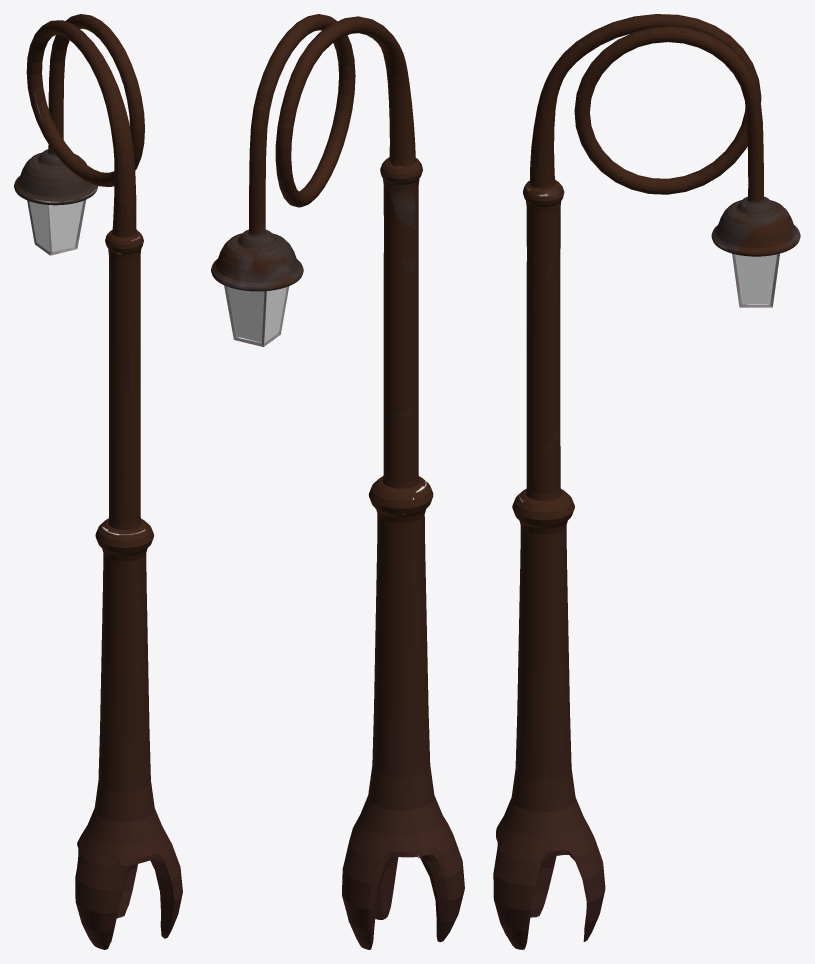
The model's file is lampu.fbx.
The picture shows the model from 3 angles, left to right: view 1: azimuth 30°, elevation 25°; view 2: azimuth 150°, elevation 25°; view 3: azimuth 270°, elevation 25°; orthographic projection. The views are drawn at different scales.
Parts seen in each view (by area): view 1: Cube.001; view 2: Cube.001; view 3: Cube.001.
Part boxes in pixels (box(x1,y1,x2,y2)): Cube.001: box(14, 14, 182, 949); Cube.001: box(211, 14, 464, 949); Cube.001: box(493, 14, 800, 949).
Size of the model in its own units: 77.36 by 547 by 165.
Materials: 1 (1 with a texture image).
